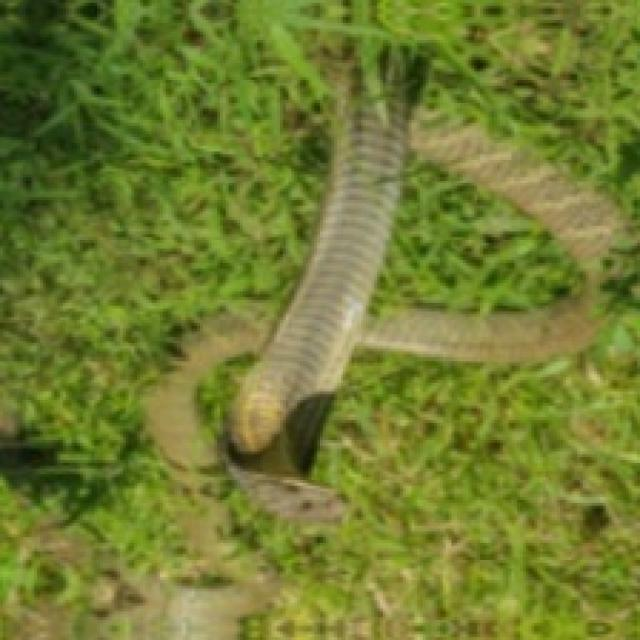king cobra: (229, 20, 617, 520)
